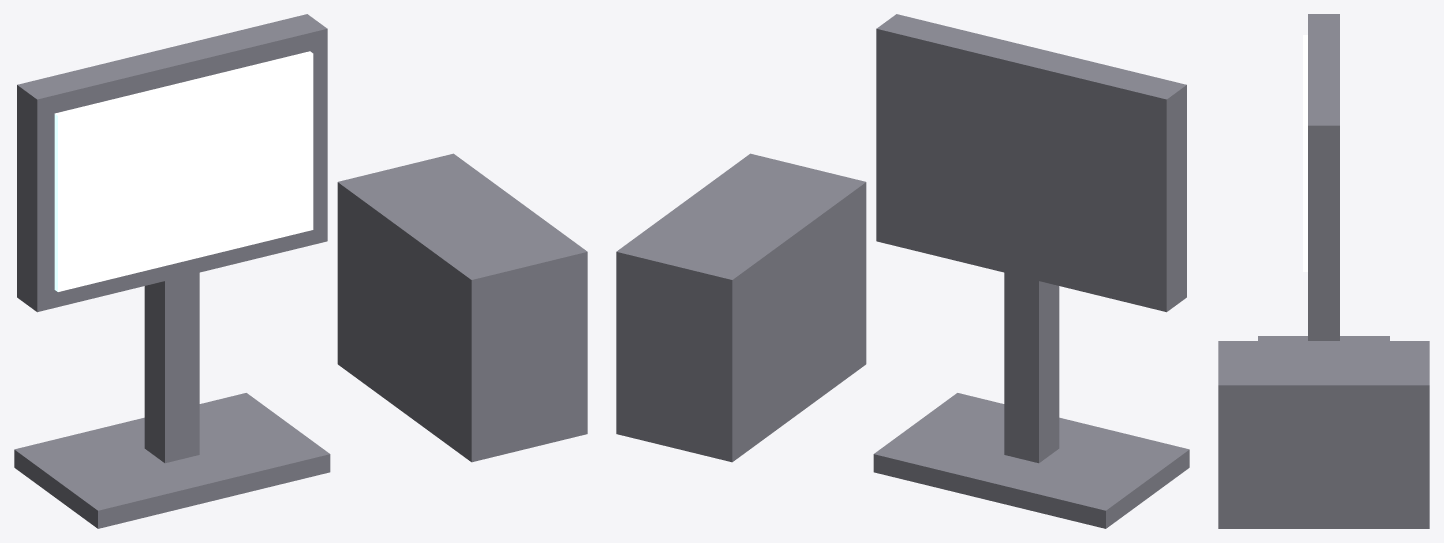
The model's file is computer5.glb.
3 renders of one model, left to right at view 1: azimuth 30°, elevation 25°; view 2: azimuth 150°, elevation 25°; view 3: azimuth 270°, elevation 25°, orthographic. The views are drawn at different scales.
Size of the model in its own units: 0.85 by 0.68 by 0.4.
